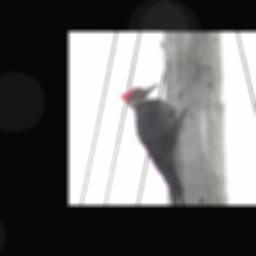Woodpecker: (118, 81, 190, 204)
